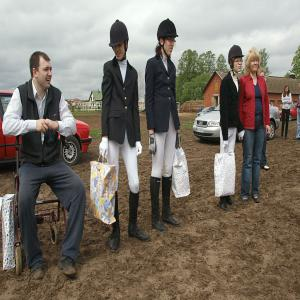Vehicle-registration-plate: (198, 128, 205, 133)
